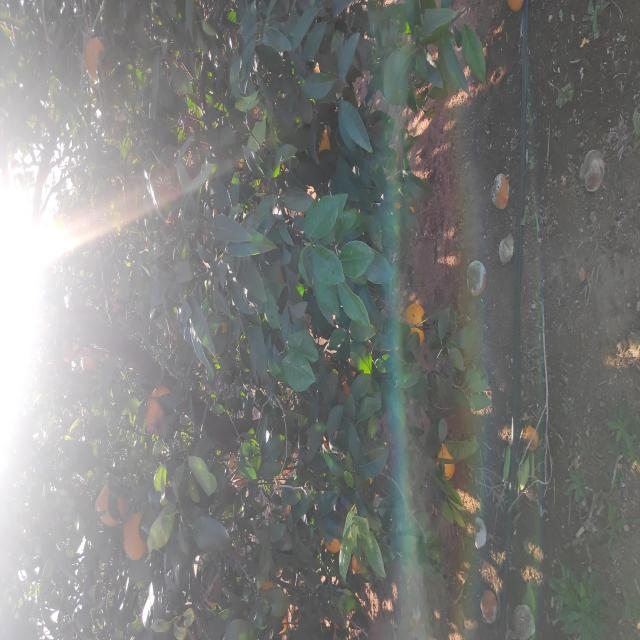Jeruk Sudah Matang: (116, 96, 156, 130), (208, 144, 255, 170), (80, 124, 129, 148), (296, 404, 338, 424), (561, 86, 606, 104), (161, 436, 198, 454), (485, 316, 512, 331), (270, 80, 291, 94), (88, 324, 104, 340), (67, 352, 86, 362)
